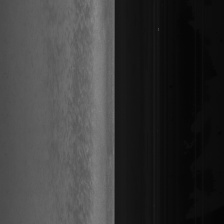silk_spot: (65, 40, 93, 166)
